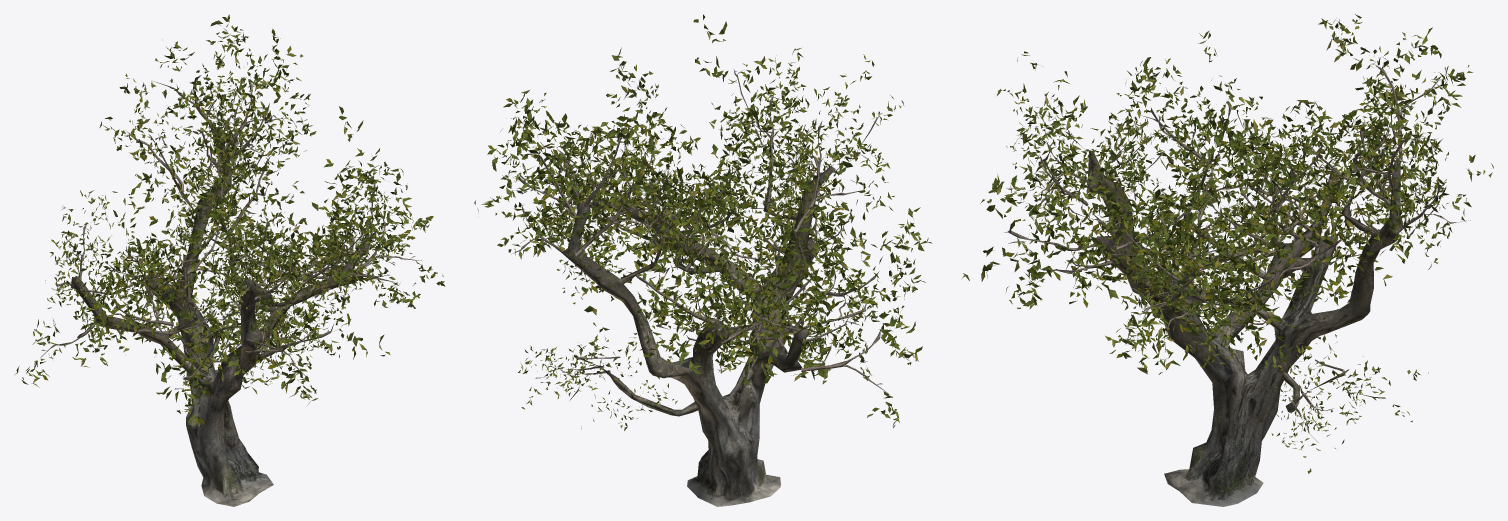
Rendered from arbre_feuillu_rond_lod0.glb.
3 views of the same model, side by side, from view 1: azimuth 30°, elevation 25°; view 2: azimuth 150°, elevation 25°; view 3: azimuth 270°, elevation 25° (orthographic). The views are drawn at different scales.
Visible parts, largest first — view 1: island_tree_01_LOD0; view 2: island_tree_01_LOD0; view 3: island_tree_01_LOD0.
Boxes of the visible parts, x1=… form: island_tree_01_LOD0: x1=15, y1=14, x2=445, y2=506; island_tree_01_LOD0: x1=474, y1=14, x2=932, y2=506; island_tree_01_LOD0: x1=962, y1=14, x2=1493, y2=506.
Bounding box in the file's own units: 4.72 × 4.98 × 4.78.
Materials: 3 (3 with a texture image).
